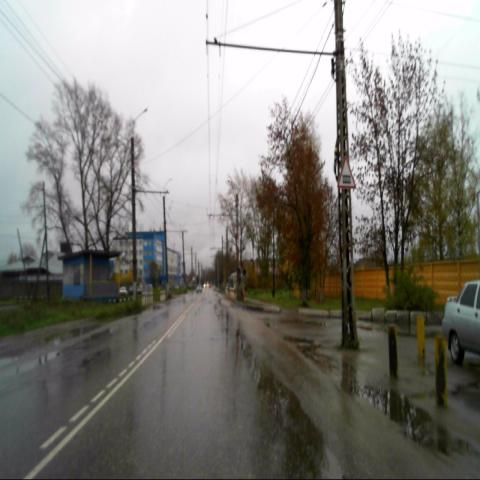1_1: (336, 155, 357, 189)
